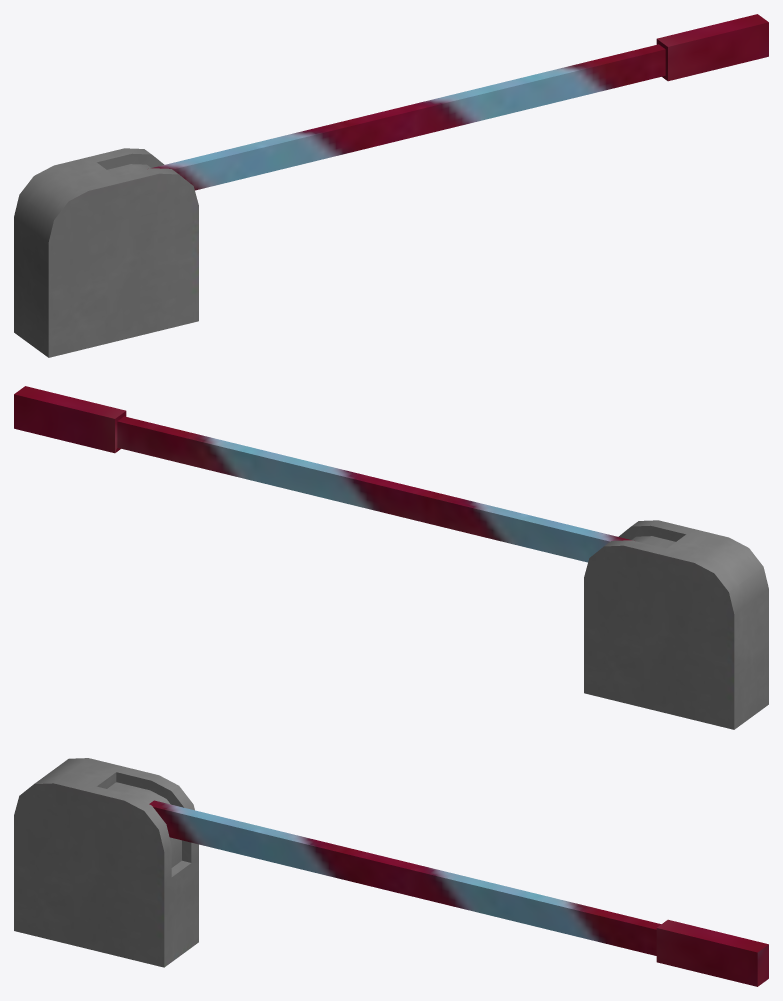
The model's file is barriere_longue.glb.
3 renders of one model, top to bottom at view 1: azimuth 30°, elevation 25°; view 2: azimuth 150°, elevation 25°; view 3: azimuth 330°, elevation 25°, orthographic.
Visible parts, largest first — view 1: Barrier; view 2: Barrier; view 3: Barrier.
Boxes of the visible parts, left/top/right/bottom form: Barrier: left=14, top=14, right=768, bottom=357; Barrier: left=14, top=386, right=768, bottom=729; Barrier: left=14, top=758, right=768, bottom=986.
Bounding box in the file's own units: 4.87 × 1 × 0.4.
Materials: 1 (1 with a texture image).
